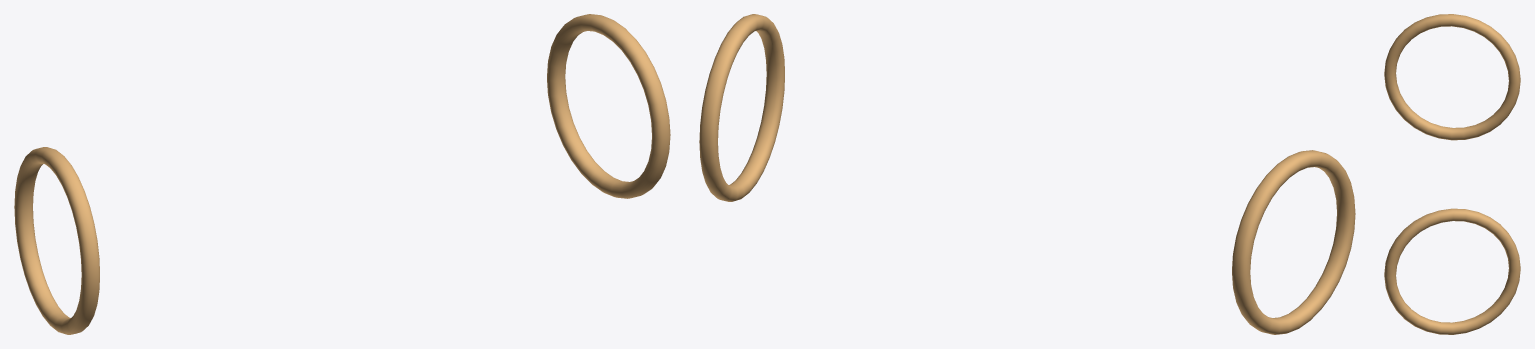
The model's file is earings4.glb.
3 renders of one model, left to right at view 1: azimuth 30°, elevation 25°; view 2: azimuth 150°, elevation 25°; view 3: azimuth 270°, elevation 25°, orthographic. The views are drawn at different scales.
Visible parts, largest first — view 1: earrings.004; view 2: earrings.004; view 3: earrings.004.
Boxes of the visible parts, x1=… form: earrings.004: x1=14, y1=14, x2=670, y2=334; earrings.004: x1=699, y1=14, x2=1355, y2=334; earrings.004: x1=1384, y1=14, x2=1520, y2=334.
Bounding box in the file's own units: 1.43 × 0.4011 × 0.3982.
1 material, 1 textured.
